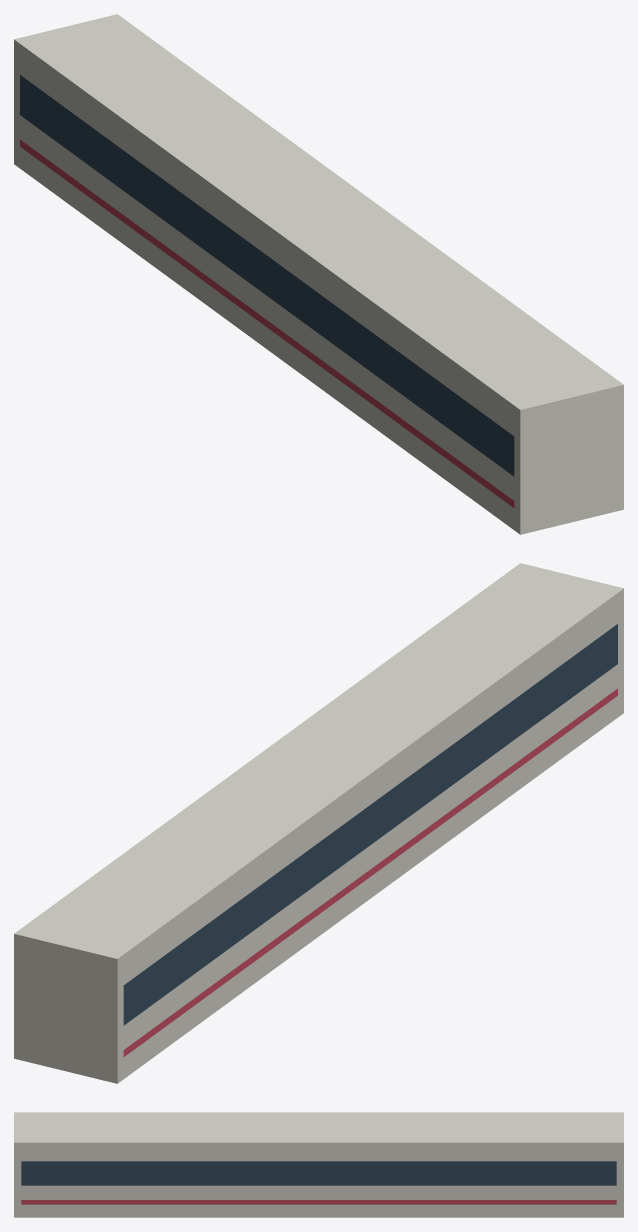
Rendered from middle_2_far.fbx.
3 renders of one model, top to bottom at view 1: azimuth 30°, elevation 25°; view 2: azimuth 150°, elevation 25°; view 3: azimuth 270°, elevation 25°, orthographic. The views are drawn at different scales.
Visible parts, largest first — view 1: 21_middle_2_far; view 2: 21_middle_2_far; view 3: 21_middle_2_far.
Boxes of the visible parts, x1,y1,x2,y2 form: 21_middle_2_far: [14, 14, 623, 534]; 21_middle_2_far: [14, 563, 623, 1083]; 21_middle_2_far: [14, 1112, 623, 1217].
Bounding box in the file's own units: 2.96 × 3.4 × 25.
